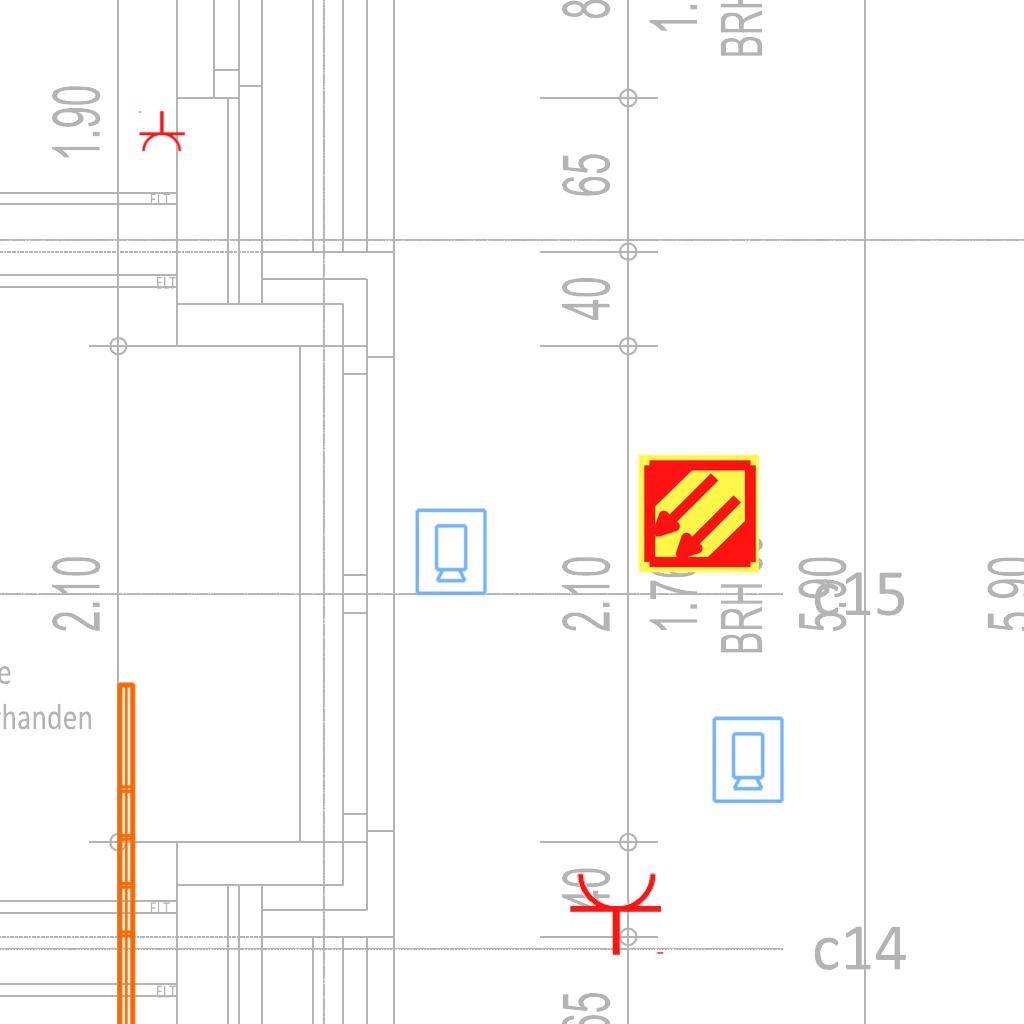ASR_Ansaugrauchmelder: (636, 451, 761, 576)
Ambulanz_Pendelleuchte_LED: (111, 677, 167, 1024)
KFO_Kamera_mit_Festobjektiv: (709, 714, 786, 805), (412, 506, 489, 597)
Schukosteckdose_einfach: (568, 870, 668, 957), (136, 110, 186, 153)
